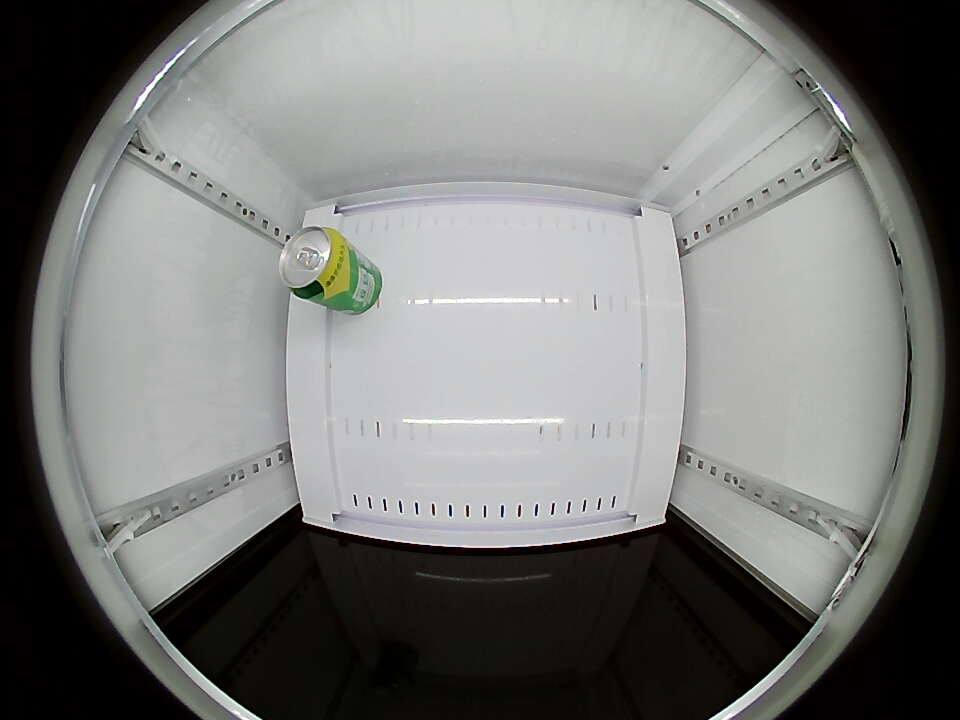xuebi2: (278, 225, 352, 303)
